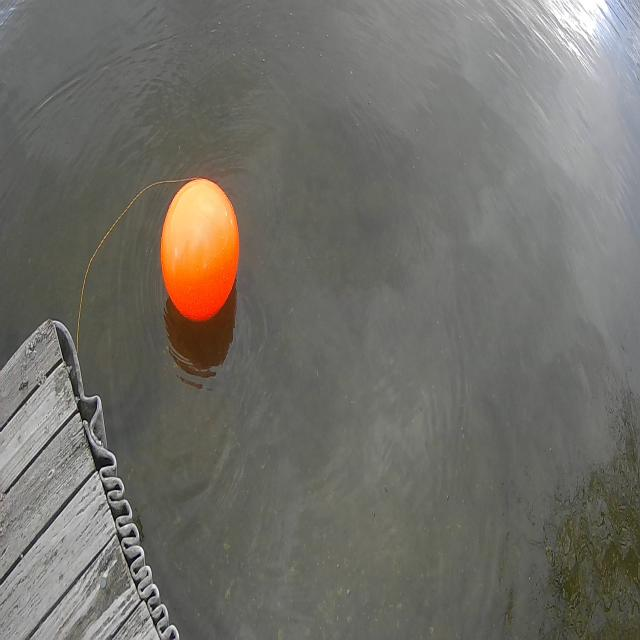Buoy: (154, 168, 248, 338)
